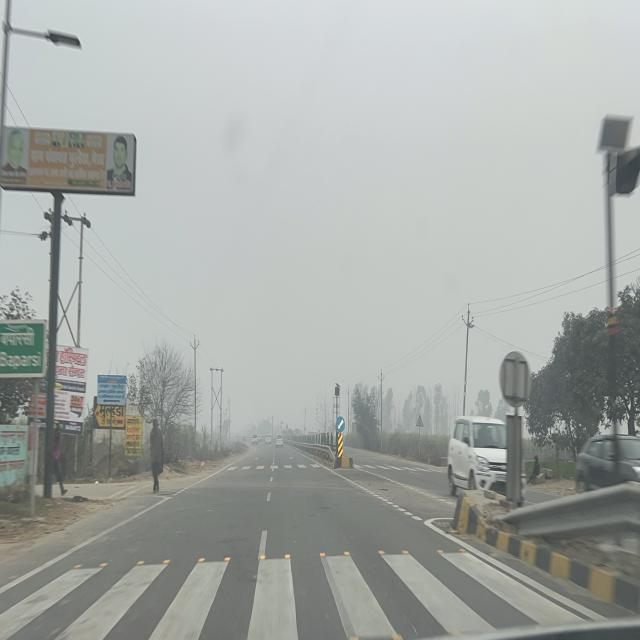GENERAL: (0, 320, 47, 378)
KEEP_LEFT: (336, 416, 345, 432)
